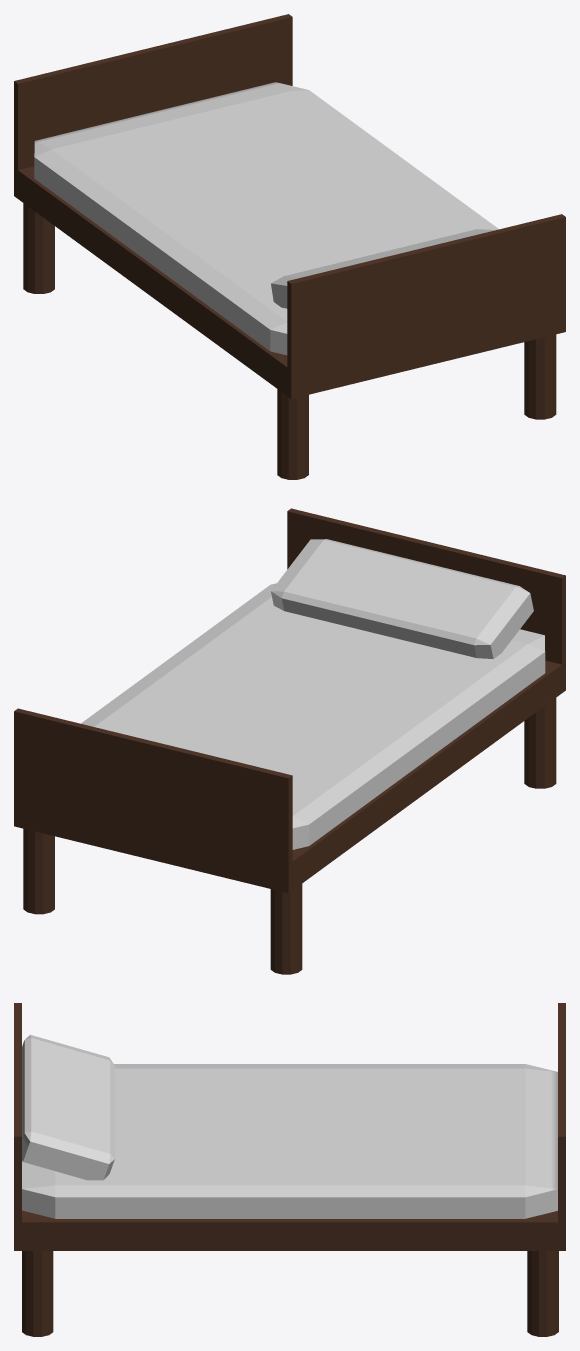
The model's file is Кровать (OOR).fbx.
3 views of the same model, one above another, from view 1: azimuth 30°, elevation 25°; view 2: azimuth 150°, elevation 25°; view 3: azimuth 270°, elevation 25° (orthographic).
Parts seen in each view (by area): view 1: beveled_cuboid, group2, cube, cylinder_3, cylinder, cylinder_1, beveled_cuboid_1; view 2: beveled_cuboid, group2, beveled_cuboid_1, cube, cylinder_1, cylinder_2, cylinder_3; view 3: beveled_cuboid, cube, beveled_cuboid_1, group2, cylinder, cylinder_2.
Part boxes in pixels (x1,y1,x2,y2): beveled_cuboid: (34, 82, 498, 355); group2: (14, 14, 565, 398); cube: (18, 166, 287, 395); cylinder_3: (277, 389, 308, 479); cylinder: (524, 334, 556, 419); cylinder_1: (23, 203, 54, 293); beveled_cuboid_1: (271, 229, 494, 308); beveled_cuboid: (81, 583, 545, 849); group2: (14, 508, 565, 893); beveled_cuboid_1: (271, 539, 533, 658); cube: (292, 660, 561, 889); cylinder_1: (270, 884, 302, 974); cylinder_2: (23, 828, 54, 914); cylinder_3: (524, 698, 556, 788); beveled_cuboid: (22, 1064, 557, 1218); cube: (22, 1210, 558, 1250); beveled_cuboid_1: (22, 1034, 114, 1180); group2: (14, 1003, 565, 1250); cylinder: (22, 1251, 53, 1336); cylinder_2: (527, 1251, 558, 1336).
Size of the model in its own units: 125 by 87.5 by 218.
2 materials, 2 textured.
